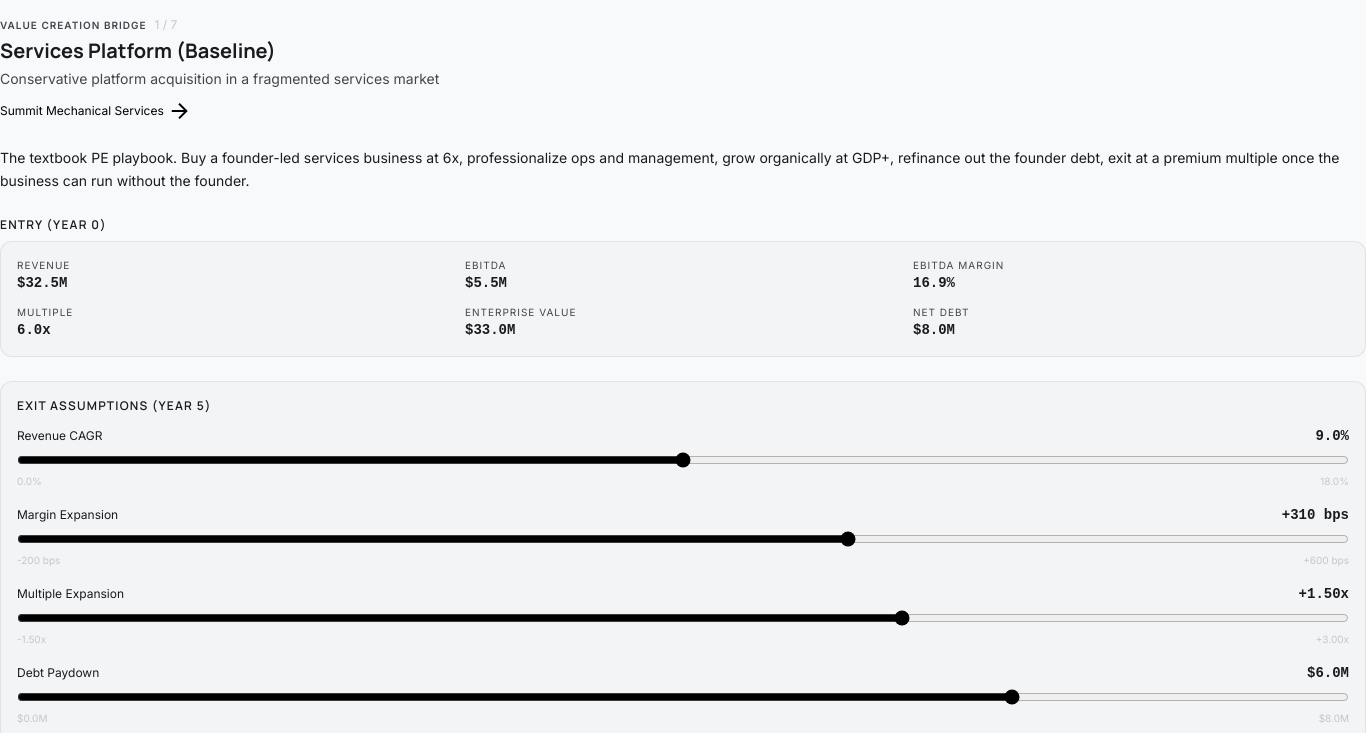
Scenario: BridgeCalculator › check exercise reports pass when plan is tuned to hit 4.0x target
Set the slider named "Revenue CAGR" to "12" at (902, 460), box [17, 452, 1349, 468]
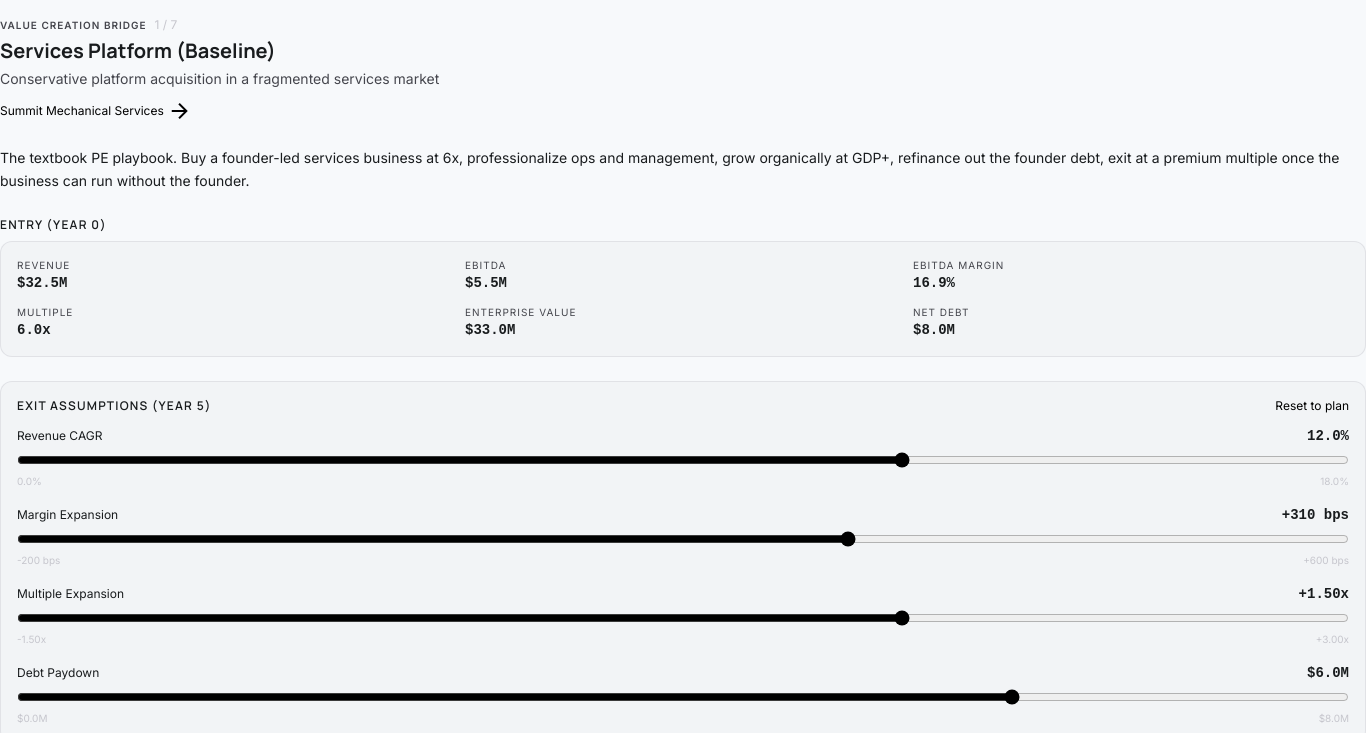
Set the slider named "Margin Expansion" to "400" at (1012, 538), box [17, 530, 1349, 546]
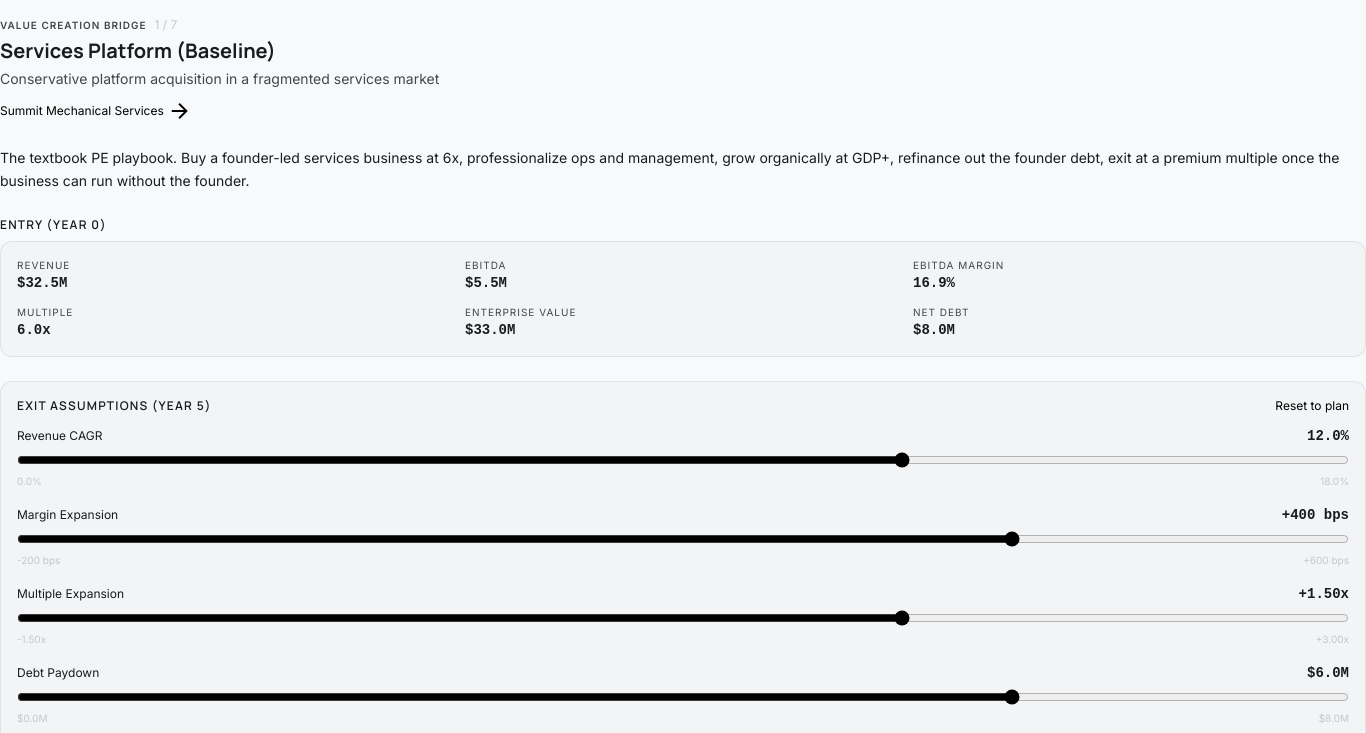
Set the slider named "Multiple Expansion" to "2.5" at (1195, 618), box [17, 610, 1349, 626]
(page scrolled)
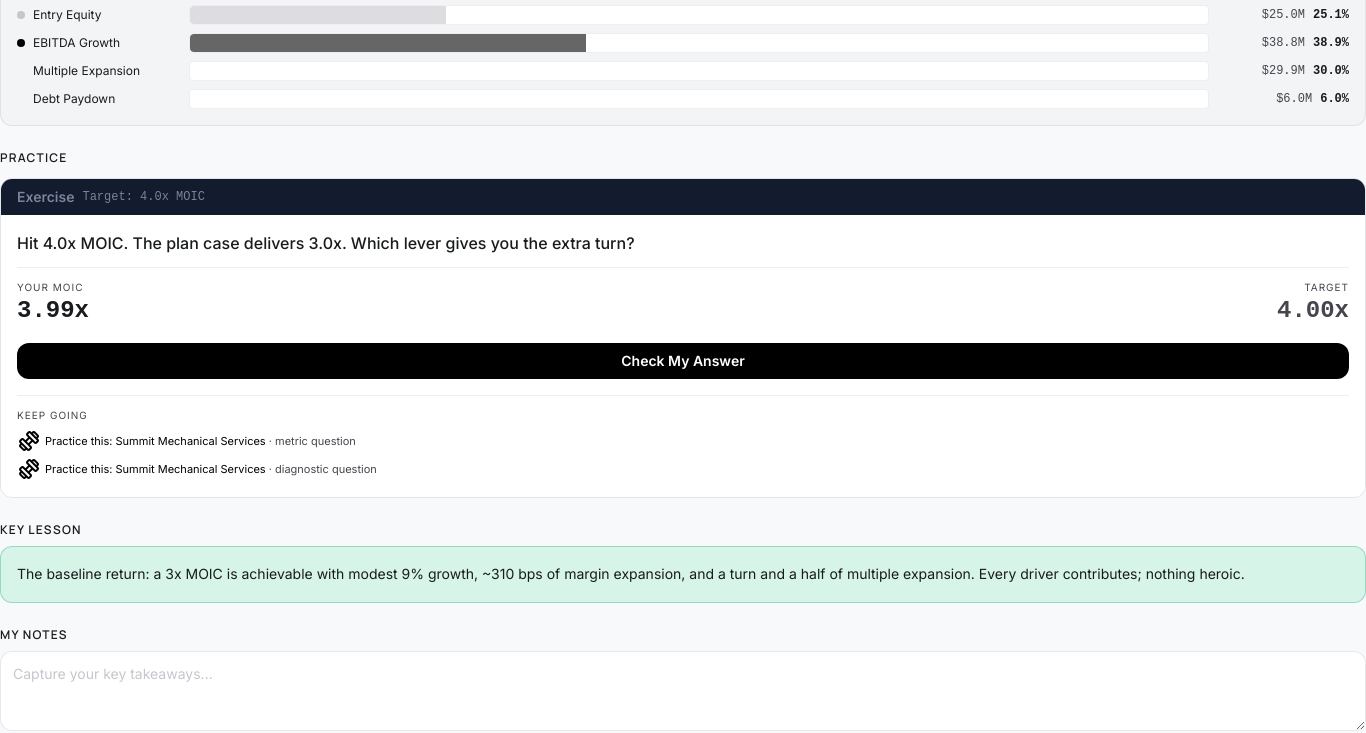
Click the button "Check My Answer" at (683, 361), box [17, 343, 1349, 379]
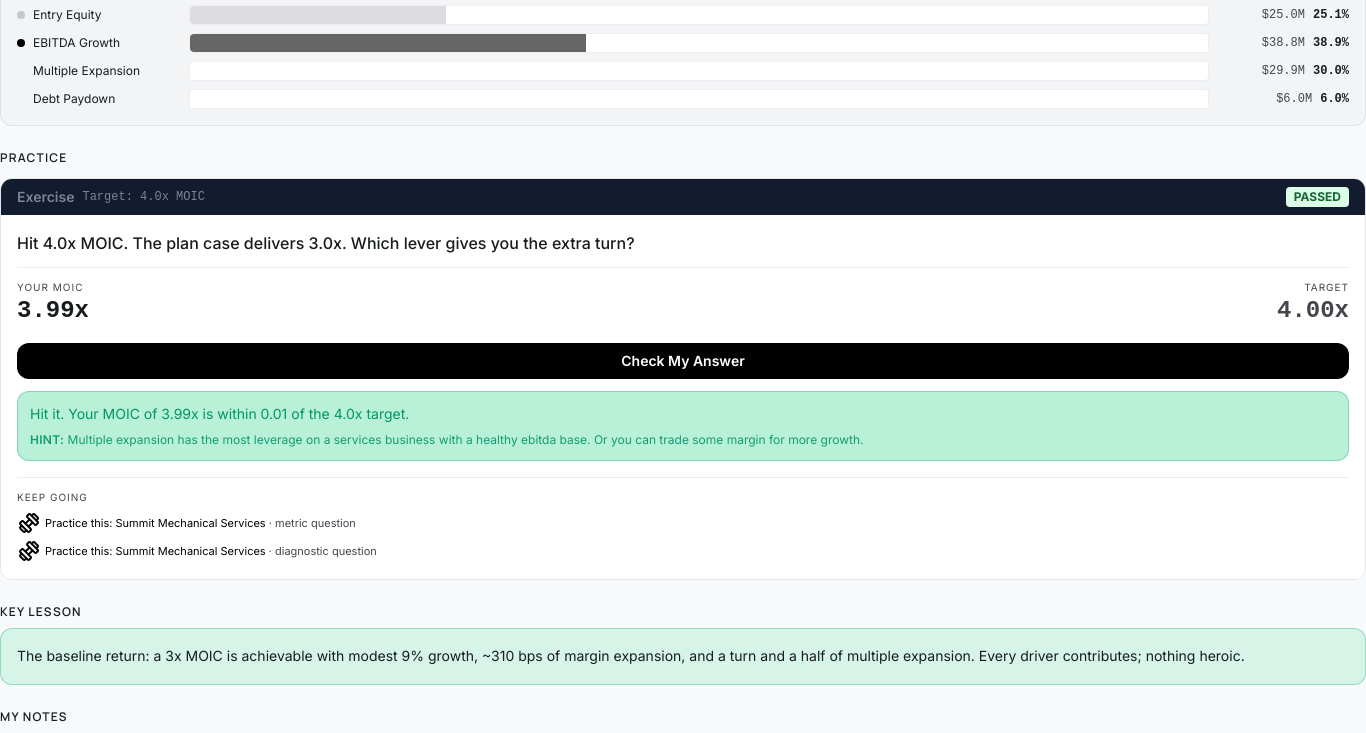
Now the text "PASSED" is shown, box [1286, 187, 1349, 207]
